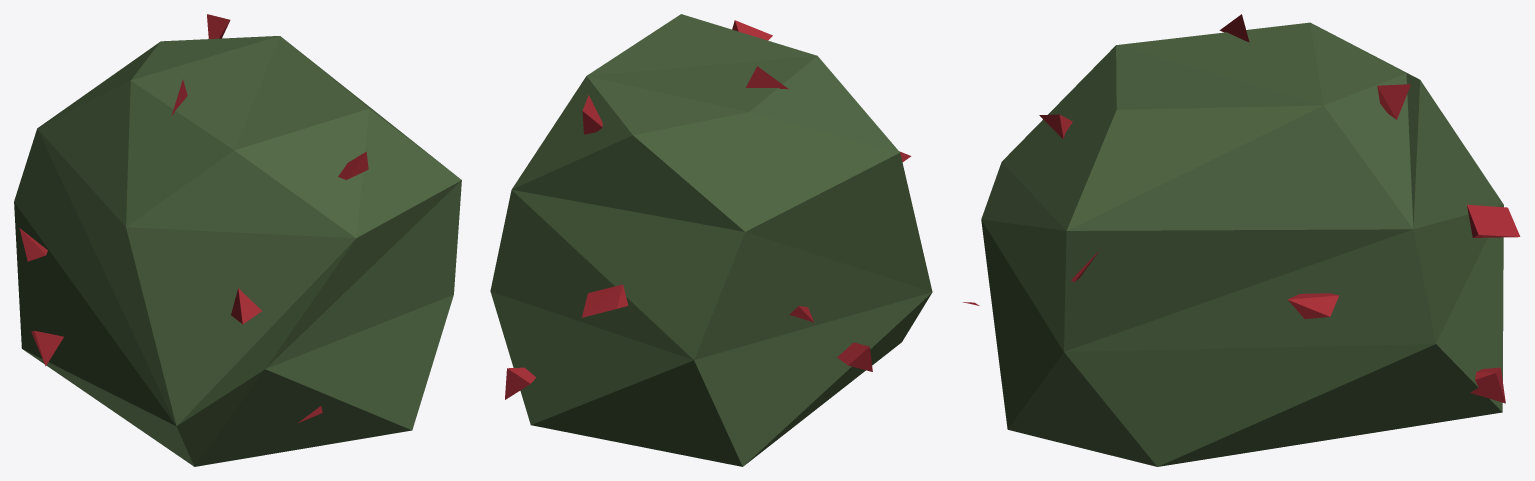
File: qn_bush_berry.glb
The picture shows the model from 3 angles, left to right: view 1: azimuth 30°, elevation 25°; view 2: azimuth 150°, elevation 25°; view 3: azimuth 270°, elevation 25°; orthographic projection. The views are drawn at different scales.
Visible parts, largest first — view 1: qn_bush_berry; view 2: qn_bush_berry; view 3: qn_bush_berry.
Boxes of the visible parts, bbox=[...] form: qn_bush_berry: bbox=[14, 14, 461, 466]; qn_bush_berry: bbox=[490, 14, 932, 466]; qn_bush_berry: bbox=[962, 14, 1520, 466].
Size of the model in its own units: 1.32 by 1.2 by 1.7.
